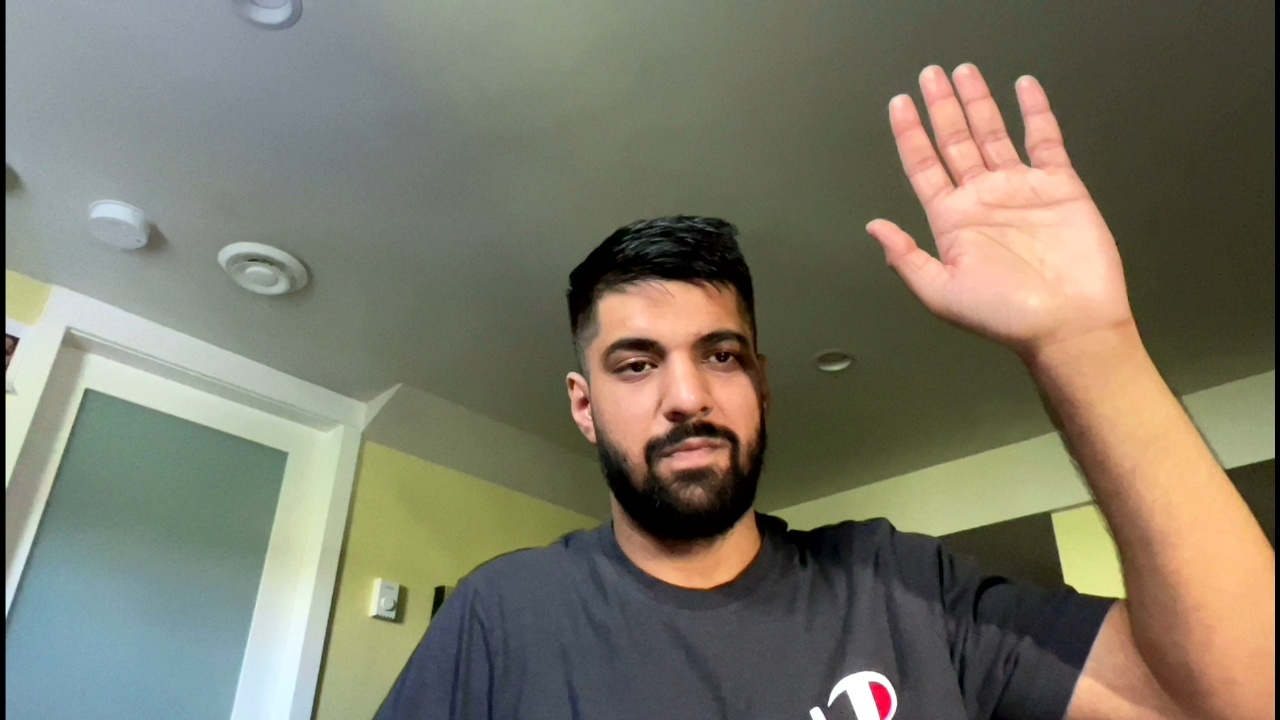Hey!: (851, 52, 1182, 337)
